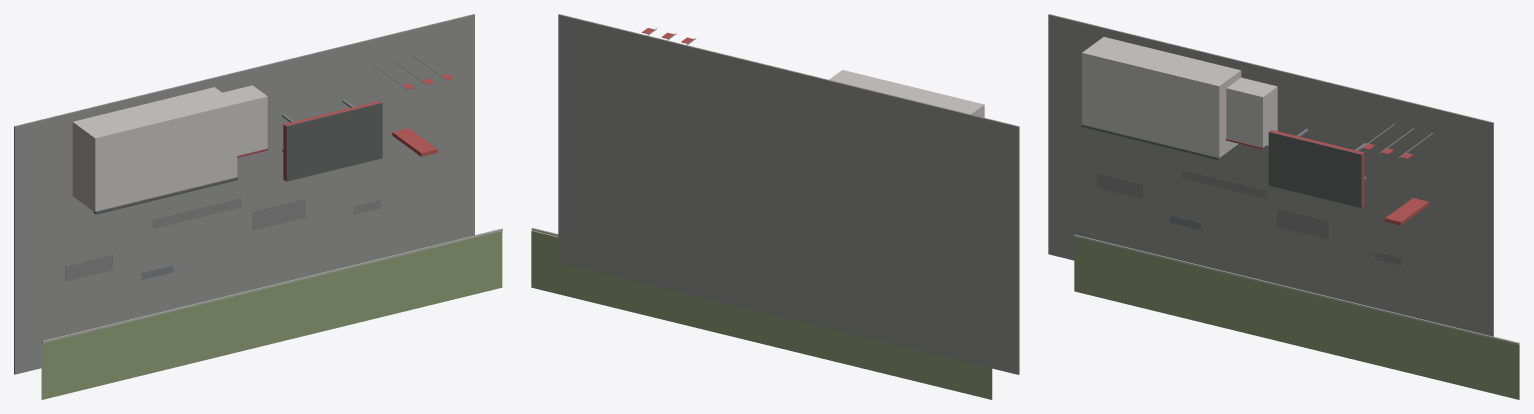
Rendered from qstar_vrigstad_study.glb.
3 views of the same model, side by side, from view 1: azimuth 30°, elevation 25°; view 2: azimuth 150°, elevation 25°; view 3: azimuth 330°, elevation 25° (orthographic). The views are drawn at different scales.
Visible parts, largest first — view 1: forecourt, grass_verge, workshop_shell, canopy_black_top, office_shell, curb_verge, road_patch_2, road_patch_1, road_patch_0, tall_price_sign, garage_black_fascia, canopy_slab; view 2: forecourt, grass_verge, workshop_shell; view 3: forecourt, grass_verge, workshop_shell, canopy_black_top, office_shell, curb_verge, road_patch_2, road_patch_1, road_patch_0, tall_price_sign, garage_black_fascia, canopy_slab.
Boxes of the visible parts, box(x1,y1,x2,y2) form: forecourt: box(14, 14, 474, 374); grass_verge: box(41, 231, 502, 399); workshop_shell: box(72, 87, 237, 211); canopy_black_top: box(286, 103, 382, 181); office_shell: box(222, 85, 267, 155); curb_verge: box(42, 228, 502, 343); road_patch_2: box(252, 198, 305, 230); road_patch_1: box(153, 198, 241, 228); road_patch_0: box(65, 254, 113, 281); tall_price_sign: box(392, 128, 437, 156); garage_black_fascia: box(93, 177, 238, 214); canopy_slab: box(283, 101, 381, 180); forecourt: box(558, 14, 1019, 374); grass_verge: box(531, 230, 992, 399); workshop_shell: box(829, 70, 984, 117); forecourt: box(1048, 14, 1493, 336); grass_verge: box(1074, 237, 1519, 399); workshop_shell: box(1082, 37, 1241, 157); canopy_black_top: box(1268, 131, 1361, 207); office_shell: box(1226, 77, 1277, 147); curb_verge: box(1073, 234, 1519, 344); road_patch_2: box(1277, 208, 1329, 239); road_patch_1: box(1182, 169, 1267, 198); road_patch_0: box(1097, 173, 1142, 199); tall_price_sign: box(1385, 198, 1428, 225); garage_black_fascia: box(1081, 124, 1220, 159); canopy_slab: box(1269, 130, 1364, 207).
Size of the model in its own units: 72 by 39.5 by 9.25.
